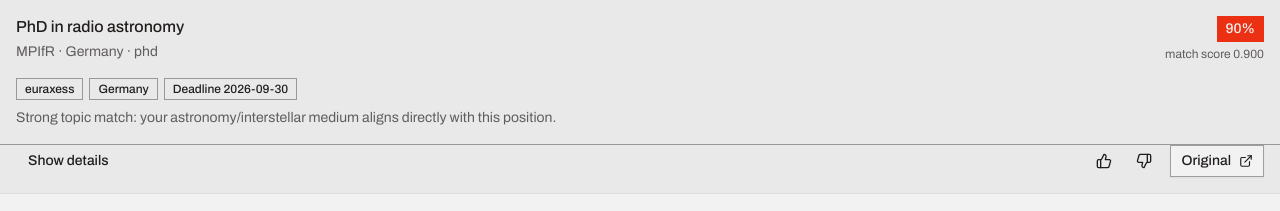
Test case: MatchCard › submits thumbs-down feedback
Click the button named "This match is not relevant".
click(1144, 161)  # box [1126, 145, 1162, 177]
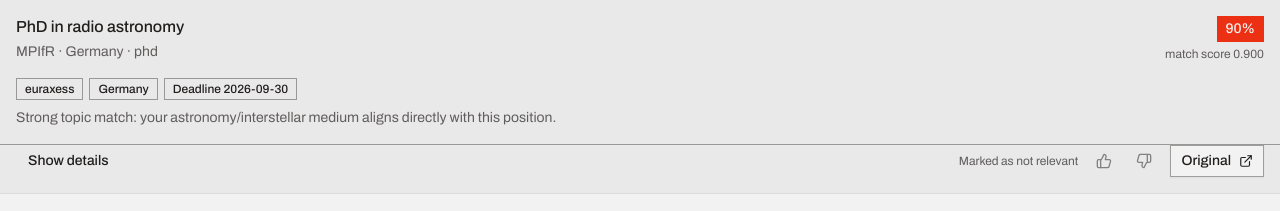
Now the text with test id "feedback-msg" reads "Marked as not relevant", box [959, 154, 1078, 168]
